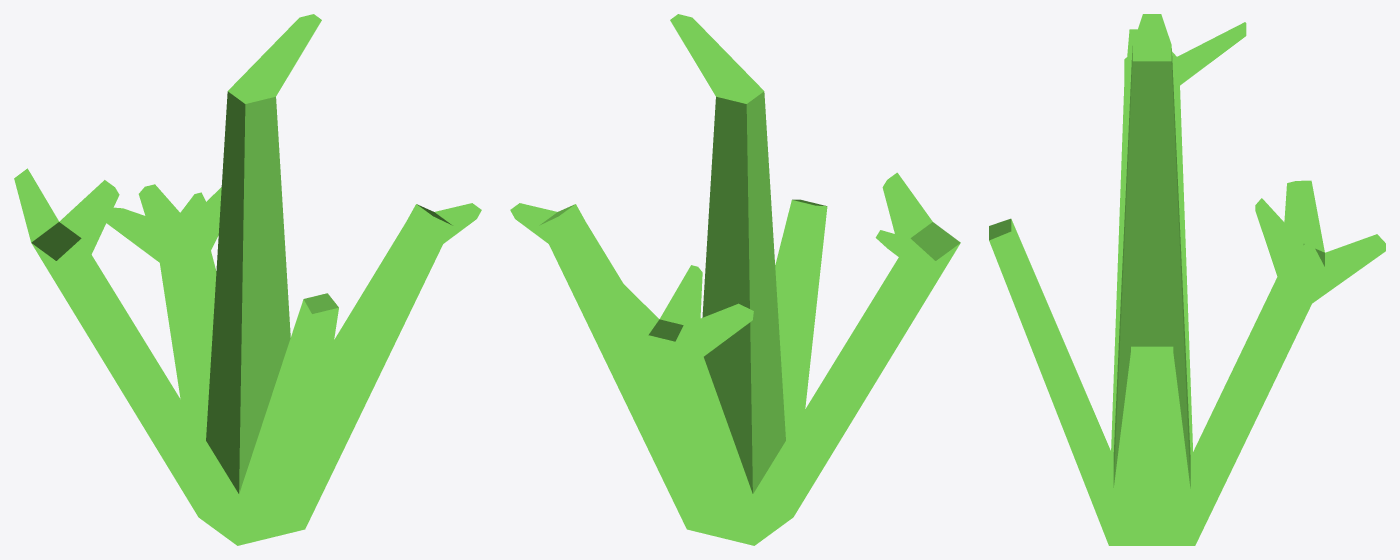
The model's file is CoralGreen.glb.
The picture shows the model from 3 angles, left to right: view 1: azimuth 30°, elevation 25°; view 2: azimuth 150°, elevation 25°; view 3: azimuth 270°, elevation 25°; orthographic projection. The views are drawn at different scales.
Parts seen in each view (by area): view 1: Cube; view 2: Cube; view 3: Cube.
Boxes of the visible parts, left/top/right/bottom form: Cube: left=14, top=14, right=481, bottom=545; Cube: left=510, top=14, right=960, bottom=545; Cube: left=989, top=14, right=1385, bottom=545.
Bounding box in the file's own units: 1.97 × 2.13 × 1.41.
